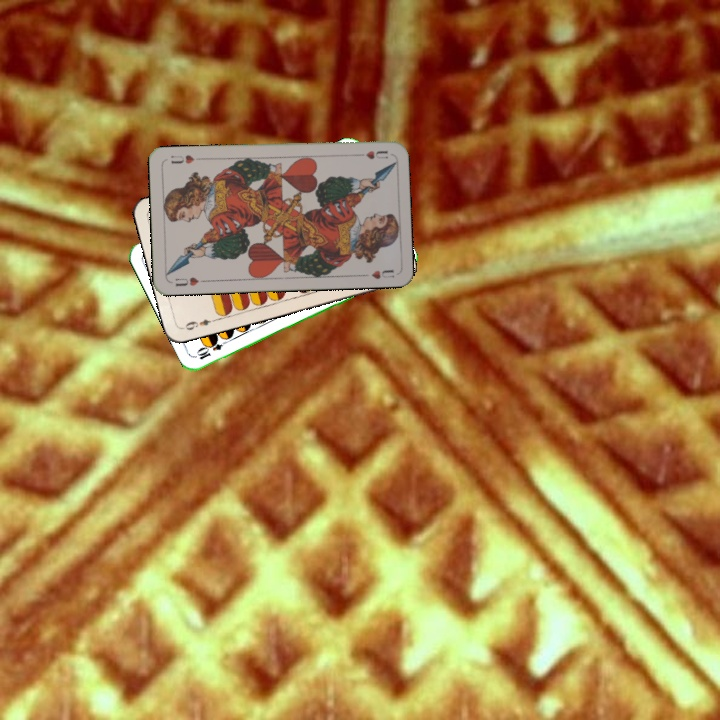E10: (194, 336, 232, 362)
E9: (179, 314, 219, 333)
HU: (352, 146, 391, 162), (171, 273, 208, 289)
